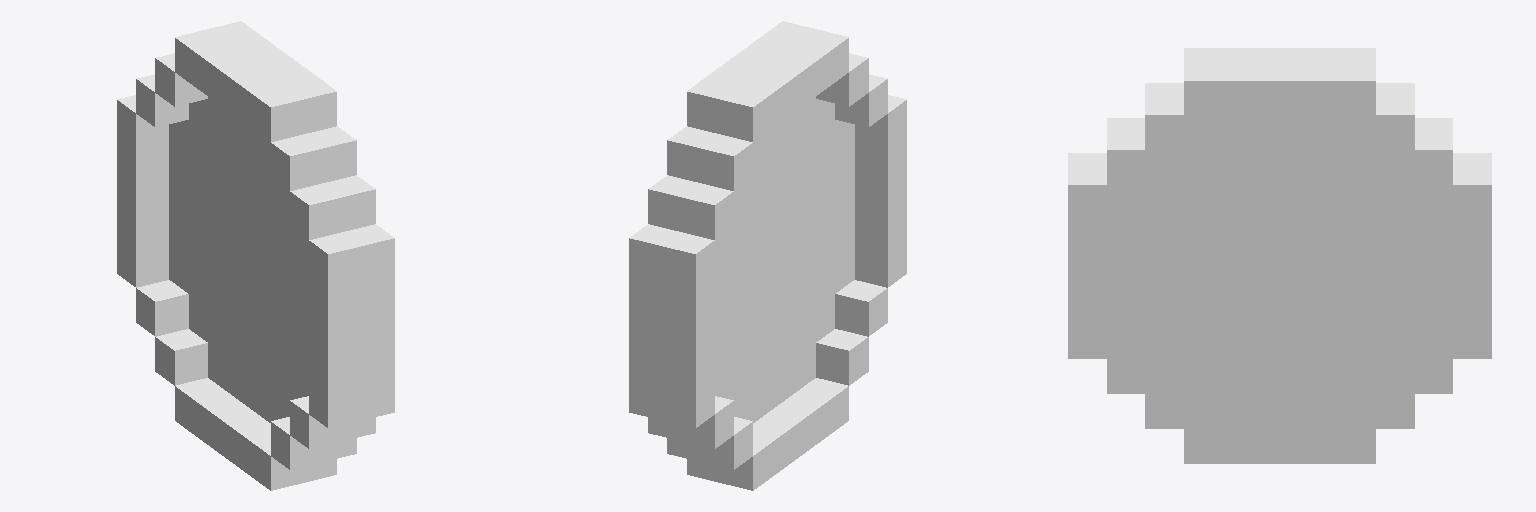
The model's file is Kitchen_cabinets-19.obj.
The picture shows the model from 3 angles: view 1: azimuth 30°, elevation 25°; view 2: azimuth 150°, elevation 25°; view 3: azimuth 270°, elevation 25°; orthographic projection.
Parts seen in each view (by area): view 1: object 1; view 2: object 1; view 3: object 1.
Boxes of the visible parts, x1,y1,x2,y2 form: object 1: [117, 21, 394, 490]; object 1: [629, 21, 906, 490]; object 1: [1068, 48, 1491, 463].
Size of the model in its own units: 0.2 by 1.1 by 1.1.